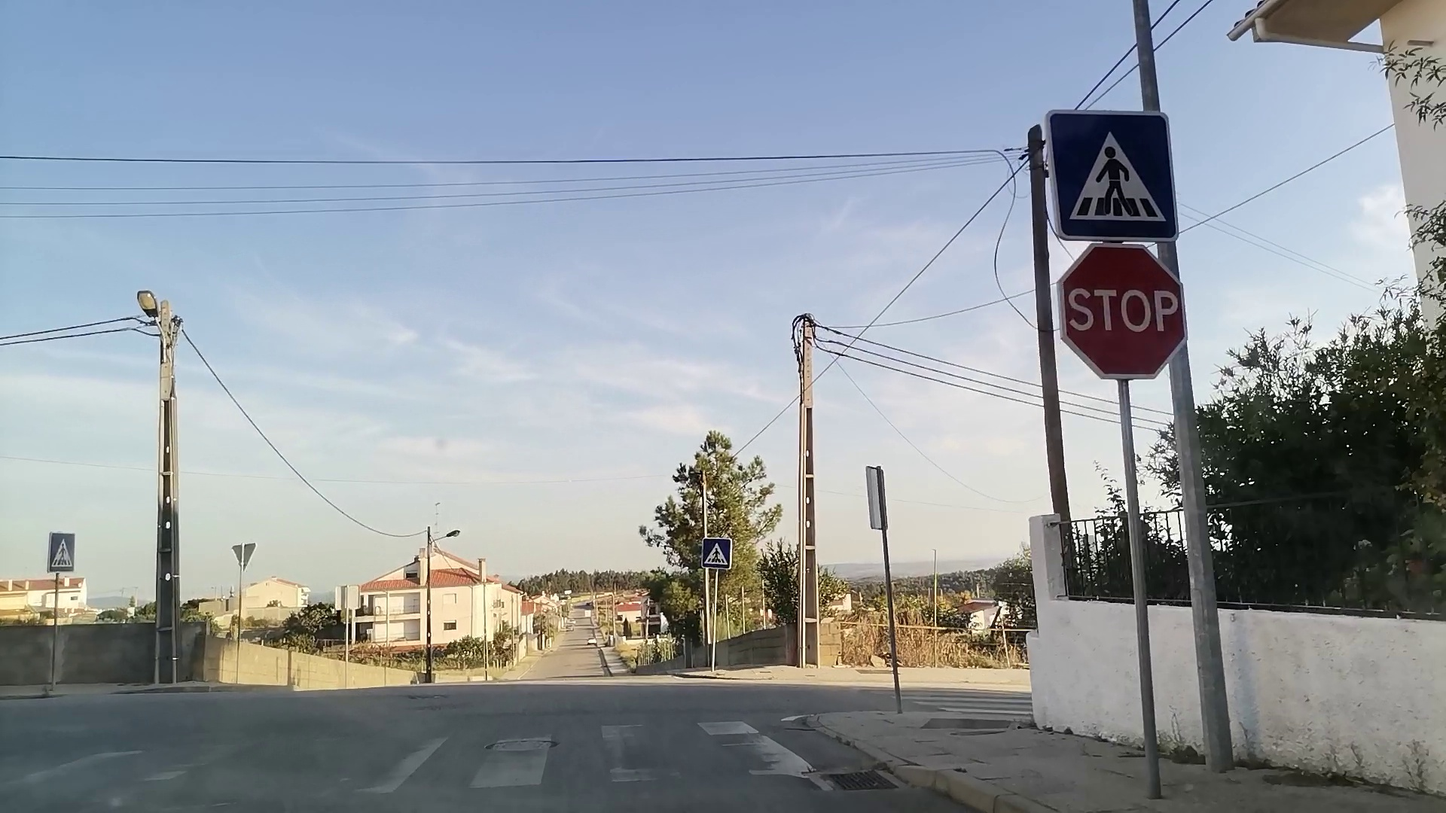Stairs: (0, 718, 823, 803)
